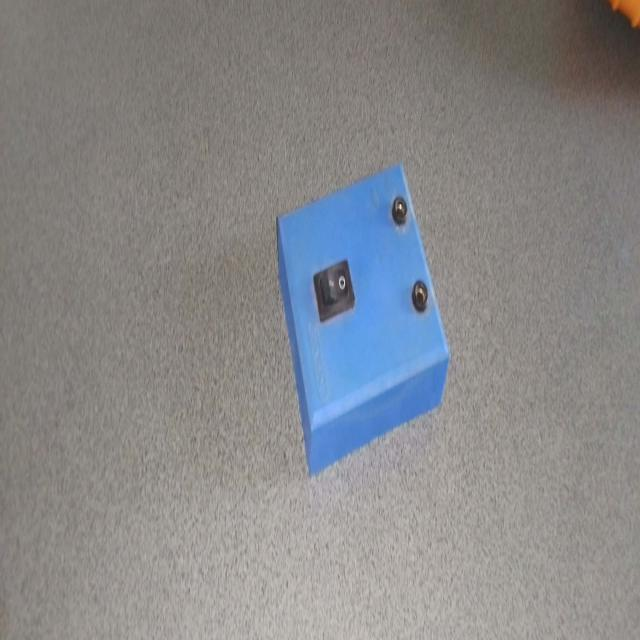ON-OFF Switch: (262, 157, 454, 497)
